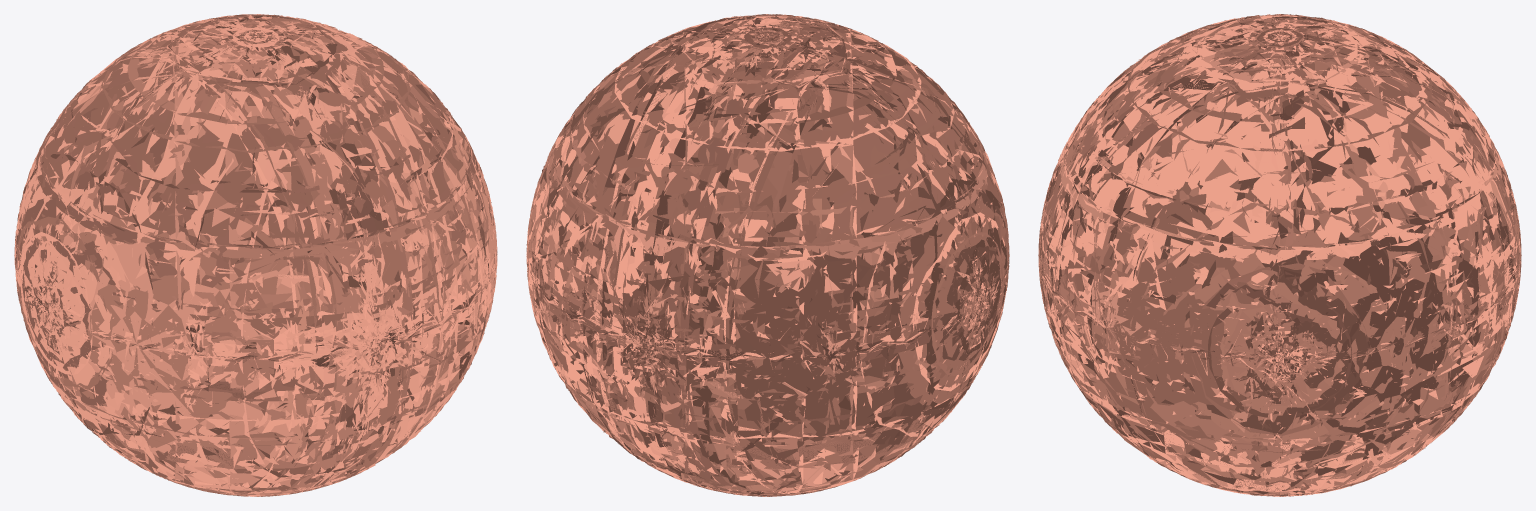
File: sys-id-telecom.glb
The picture shows the model from 3 angles, left to right: view 1: azimuth 30°, elevation 25°; view 2: azimuth 150°, elevation 25°; view 3: azimuth 270°, elevation 25°; orthographic projection.
Visible parts, largest first — view 1: TS-id-telecom-1707, TS-id-telecom-1706, TS-id-telecom-1708; view 2: TS-id-telecom-1707, TS-id-telecom-1706, TS-id-telecom-1708; view 3: TS-id-telecom-1707, TS-id-telecom-1706, TS-id-telecom-1708.
Boxes of the visible parts, bbox=[...] form: TS-id-telecom-1707: bbox=[14, 14, 497, 496]; TS-id-telecom-1706: bbox=[14, 14, 496, 491]; TS-id-telecom-1708: bbox=[15, 18, 495, 494]; TS-id-telecom-1707: bbox=[526, 14, 1009, 496]; TS-id-telecom-1706: bbox=[527, 14, 1008, 496]; TS-id-telecom-1708: bbox=[526, 21, 1009, 495]; TS-id-telecom-1707: bbox=[1038, 14, 1521, 496]; TS-id-telecom-1706: bbox=[1038, 14, 1521, 496]; TS-id-telecom-1708: bbox=[1038, 14, 1521, 496].
Bounding box in the file's own units: 2 × 2 × 2.
